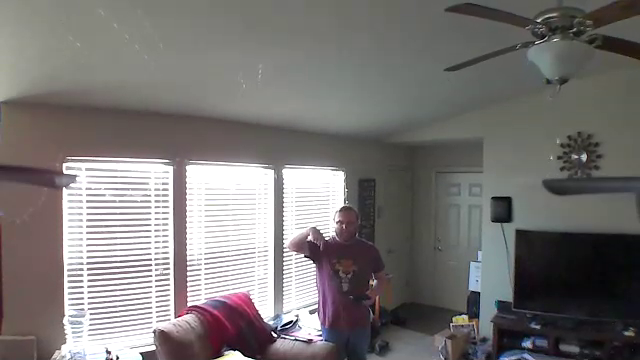down: (305, 221, 327, 256)
